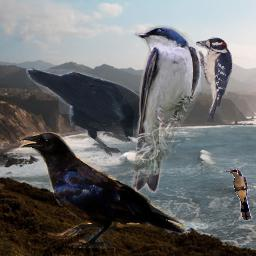Crow: (20, 132, 188, 248), (26, 69, 159, 161)
Cuckoo: (226, 169, 252, 221)
Swallow: (129, 25, 201, 193)
Woodpecker: (196, 36, 234, 122)
